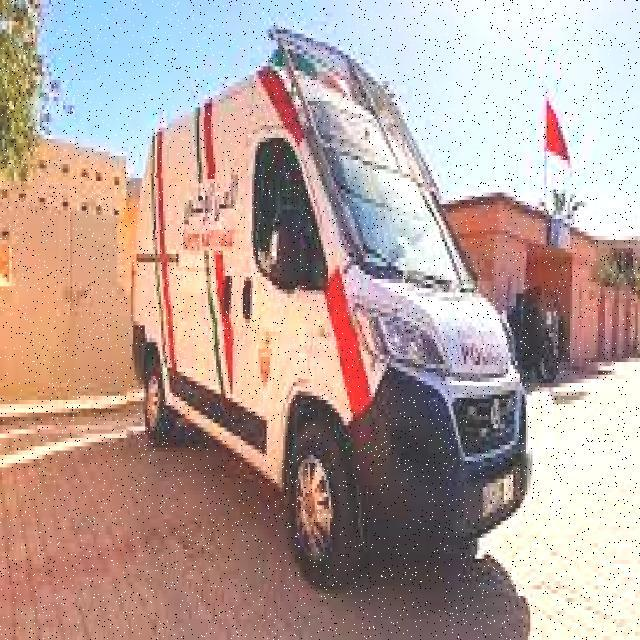police: (125, 39, 536, 594)
